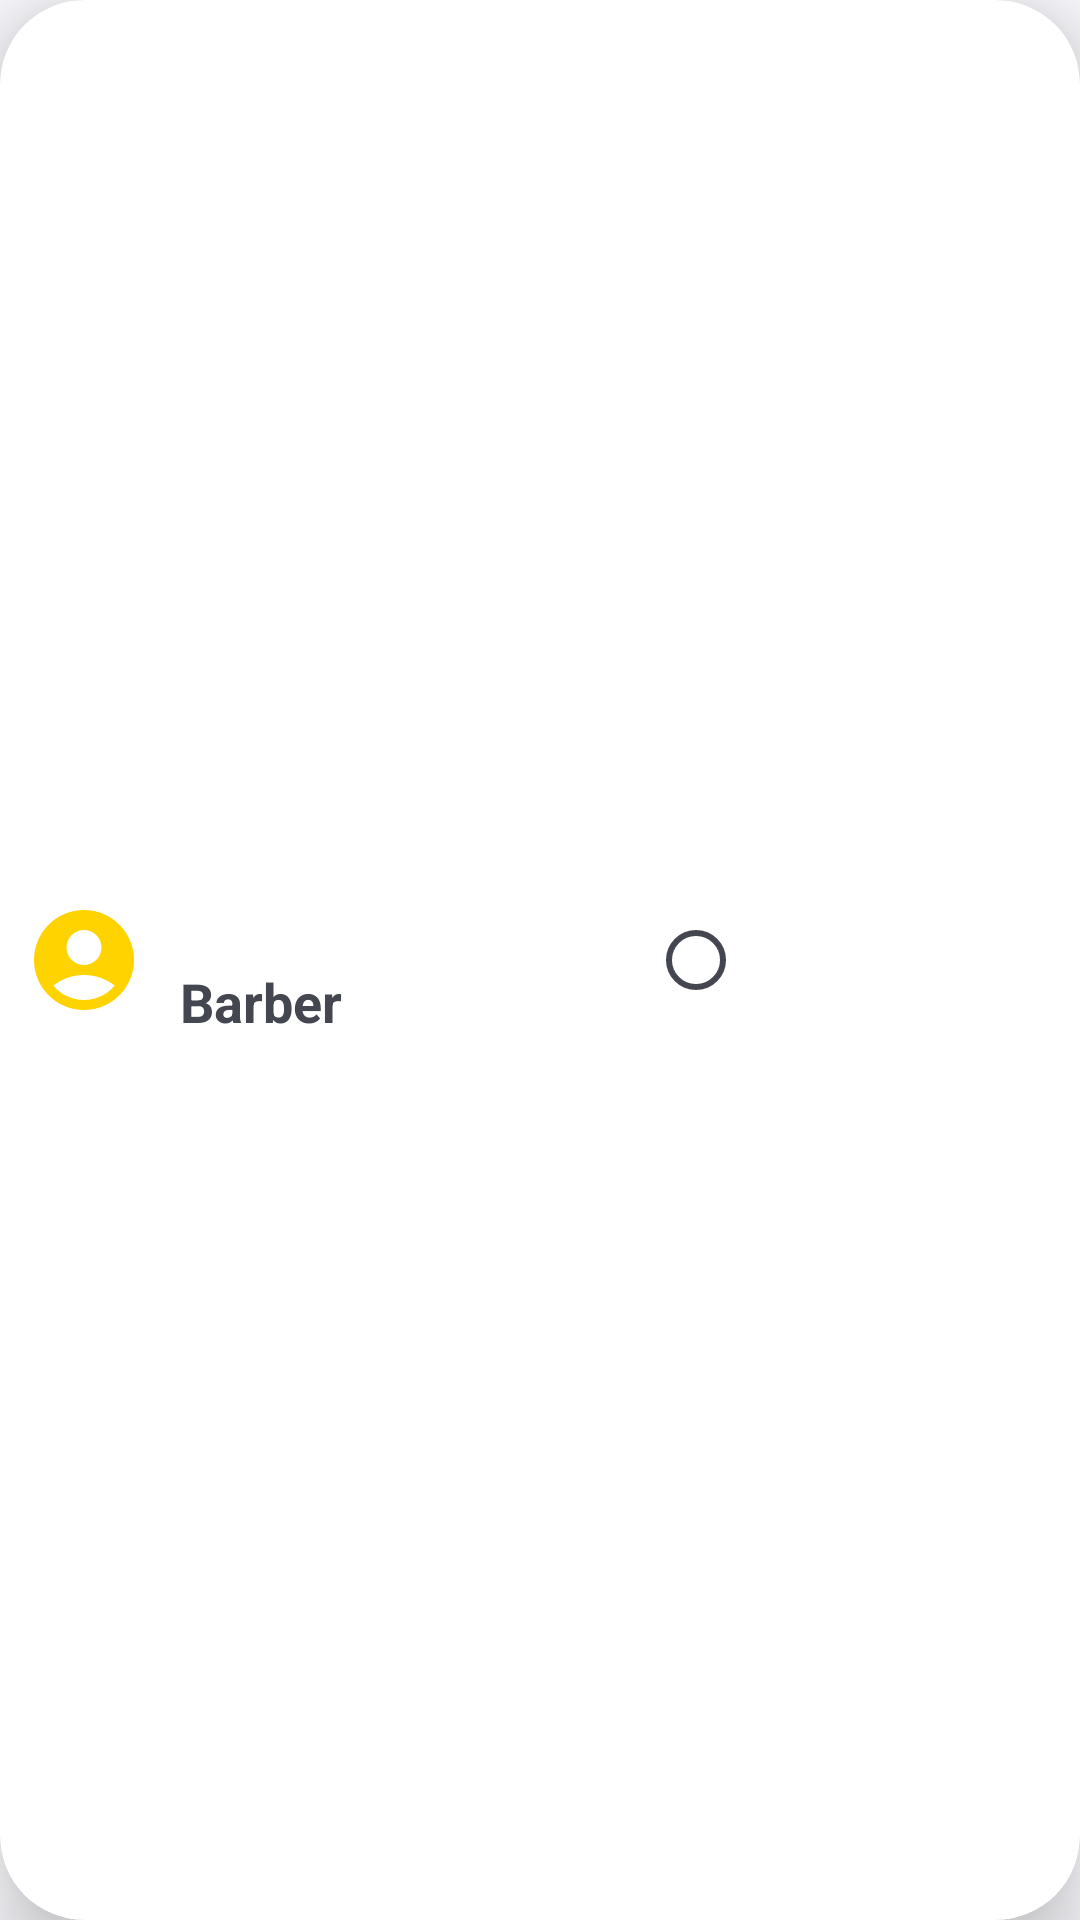

Locate icon controls on the screen. Image size 1080w x 1920h, boxes as (x1, y1, x2, y2).
account circle: (34, 910, 134, 1010)
